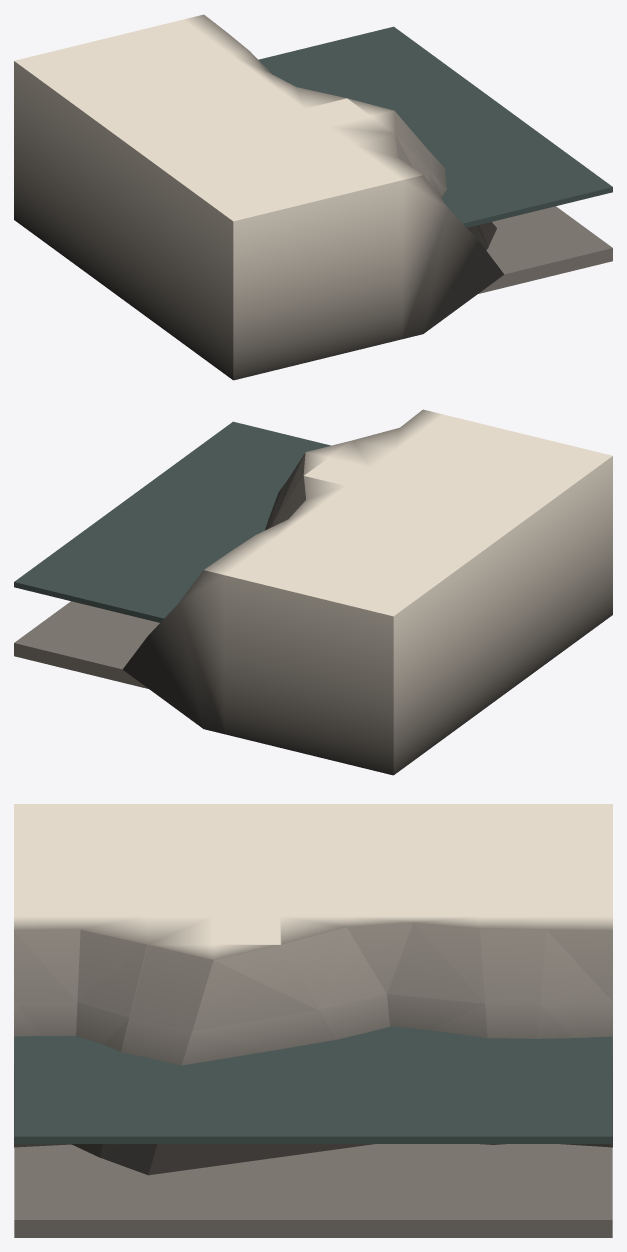
File: SM_VKI_Ground_Stream_OXXO_Q10.fbx
3 renders of one model, top to bottom at view 1: azimuth 30°, elevation 25°; view 2: azimuth 150°, elevation 25°; view 3: azimuth 270°, elevation 25°, orthographic. The views are drawn at different scales.
Parts seen in each view (by area): view 1: SM_VKI_Ground_Stream_OXXO_Q10.001; view 2: SM_VKI_Ground_Stream_OXXO_Q10.001; view 3: SM_VKI_Ground_Stream_OXXO_Q10.001.
Boxes of the visible parts, x1,y1,x2,y2 form: SM_VKI_Ground_Stream_OXXO_Q10.001: (14,14,612,380); SM_VKI_Ground_Stream_OXXO_Q10.001: (14,409,612,775); SM_VKI_Ground_Stream_OXXO_Q10.001: (14,804,612,1237).
Bounding box in the file's own units: 1.5 × 0.6 × 1.5.
